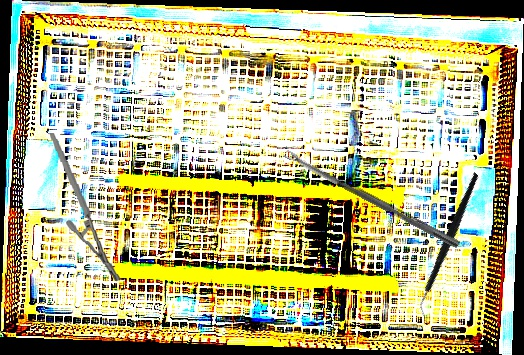Chopper: (378, 171, 522, 319)
Needle Holder: (49, 128, 122, 286)
Surgical Spoon: (283, 148, 461, 249)
